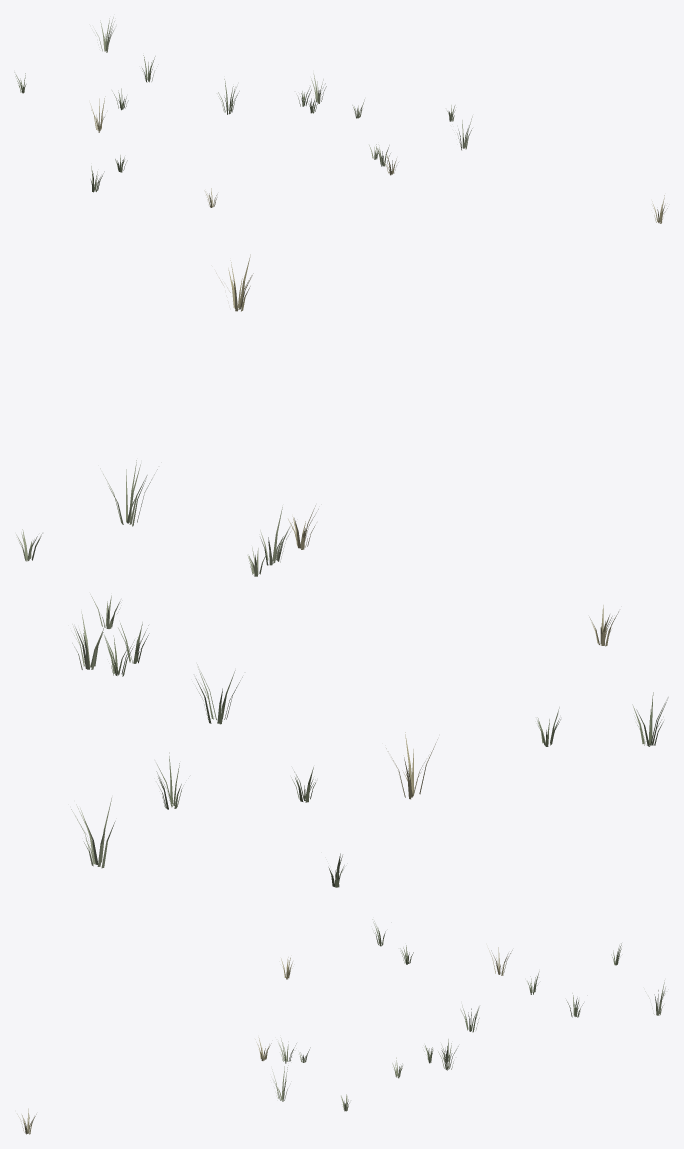
Rendered from AE_Grass_3_-3.fbx.
3 renders of one model, top to bottom at view 1: azimuth 30°, elevation 25°; view 2: azimuth 150°, elevation 25°; view 3: azimuth 270°, elevation 25°, orthographic. The views are drawn at different scales.
Parts seen in each view (by area): view 1: AE_Grass_3_-3_LOD0; view 2: AE_Grass_3_-3_LOD0; view 3: AE_Grass_3_-3_LOD0.
Boxes of the visible parts, x1,y1,x2,y2 form: AE_Grass_3_-3_LOD0: (14,17,667,223); AE_Grass_3_-3_LOD0: (16,254,668,887); AE_Grass_3_-3_LOD0: (17,919,665,1134).
Size of what is drawn, in the model's own units: 1274 by 104 by 1775.
